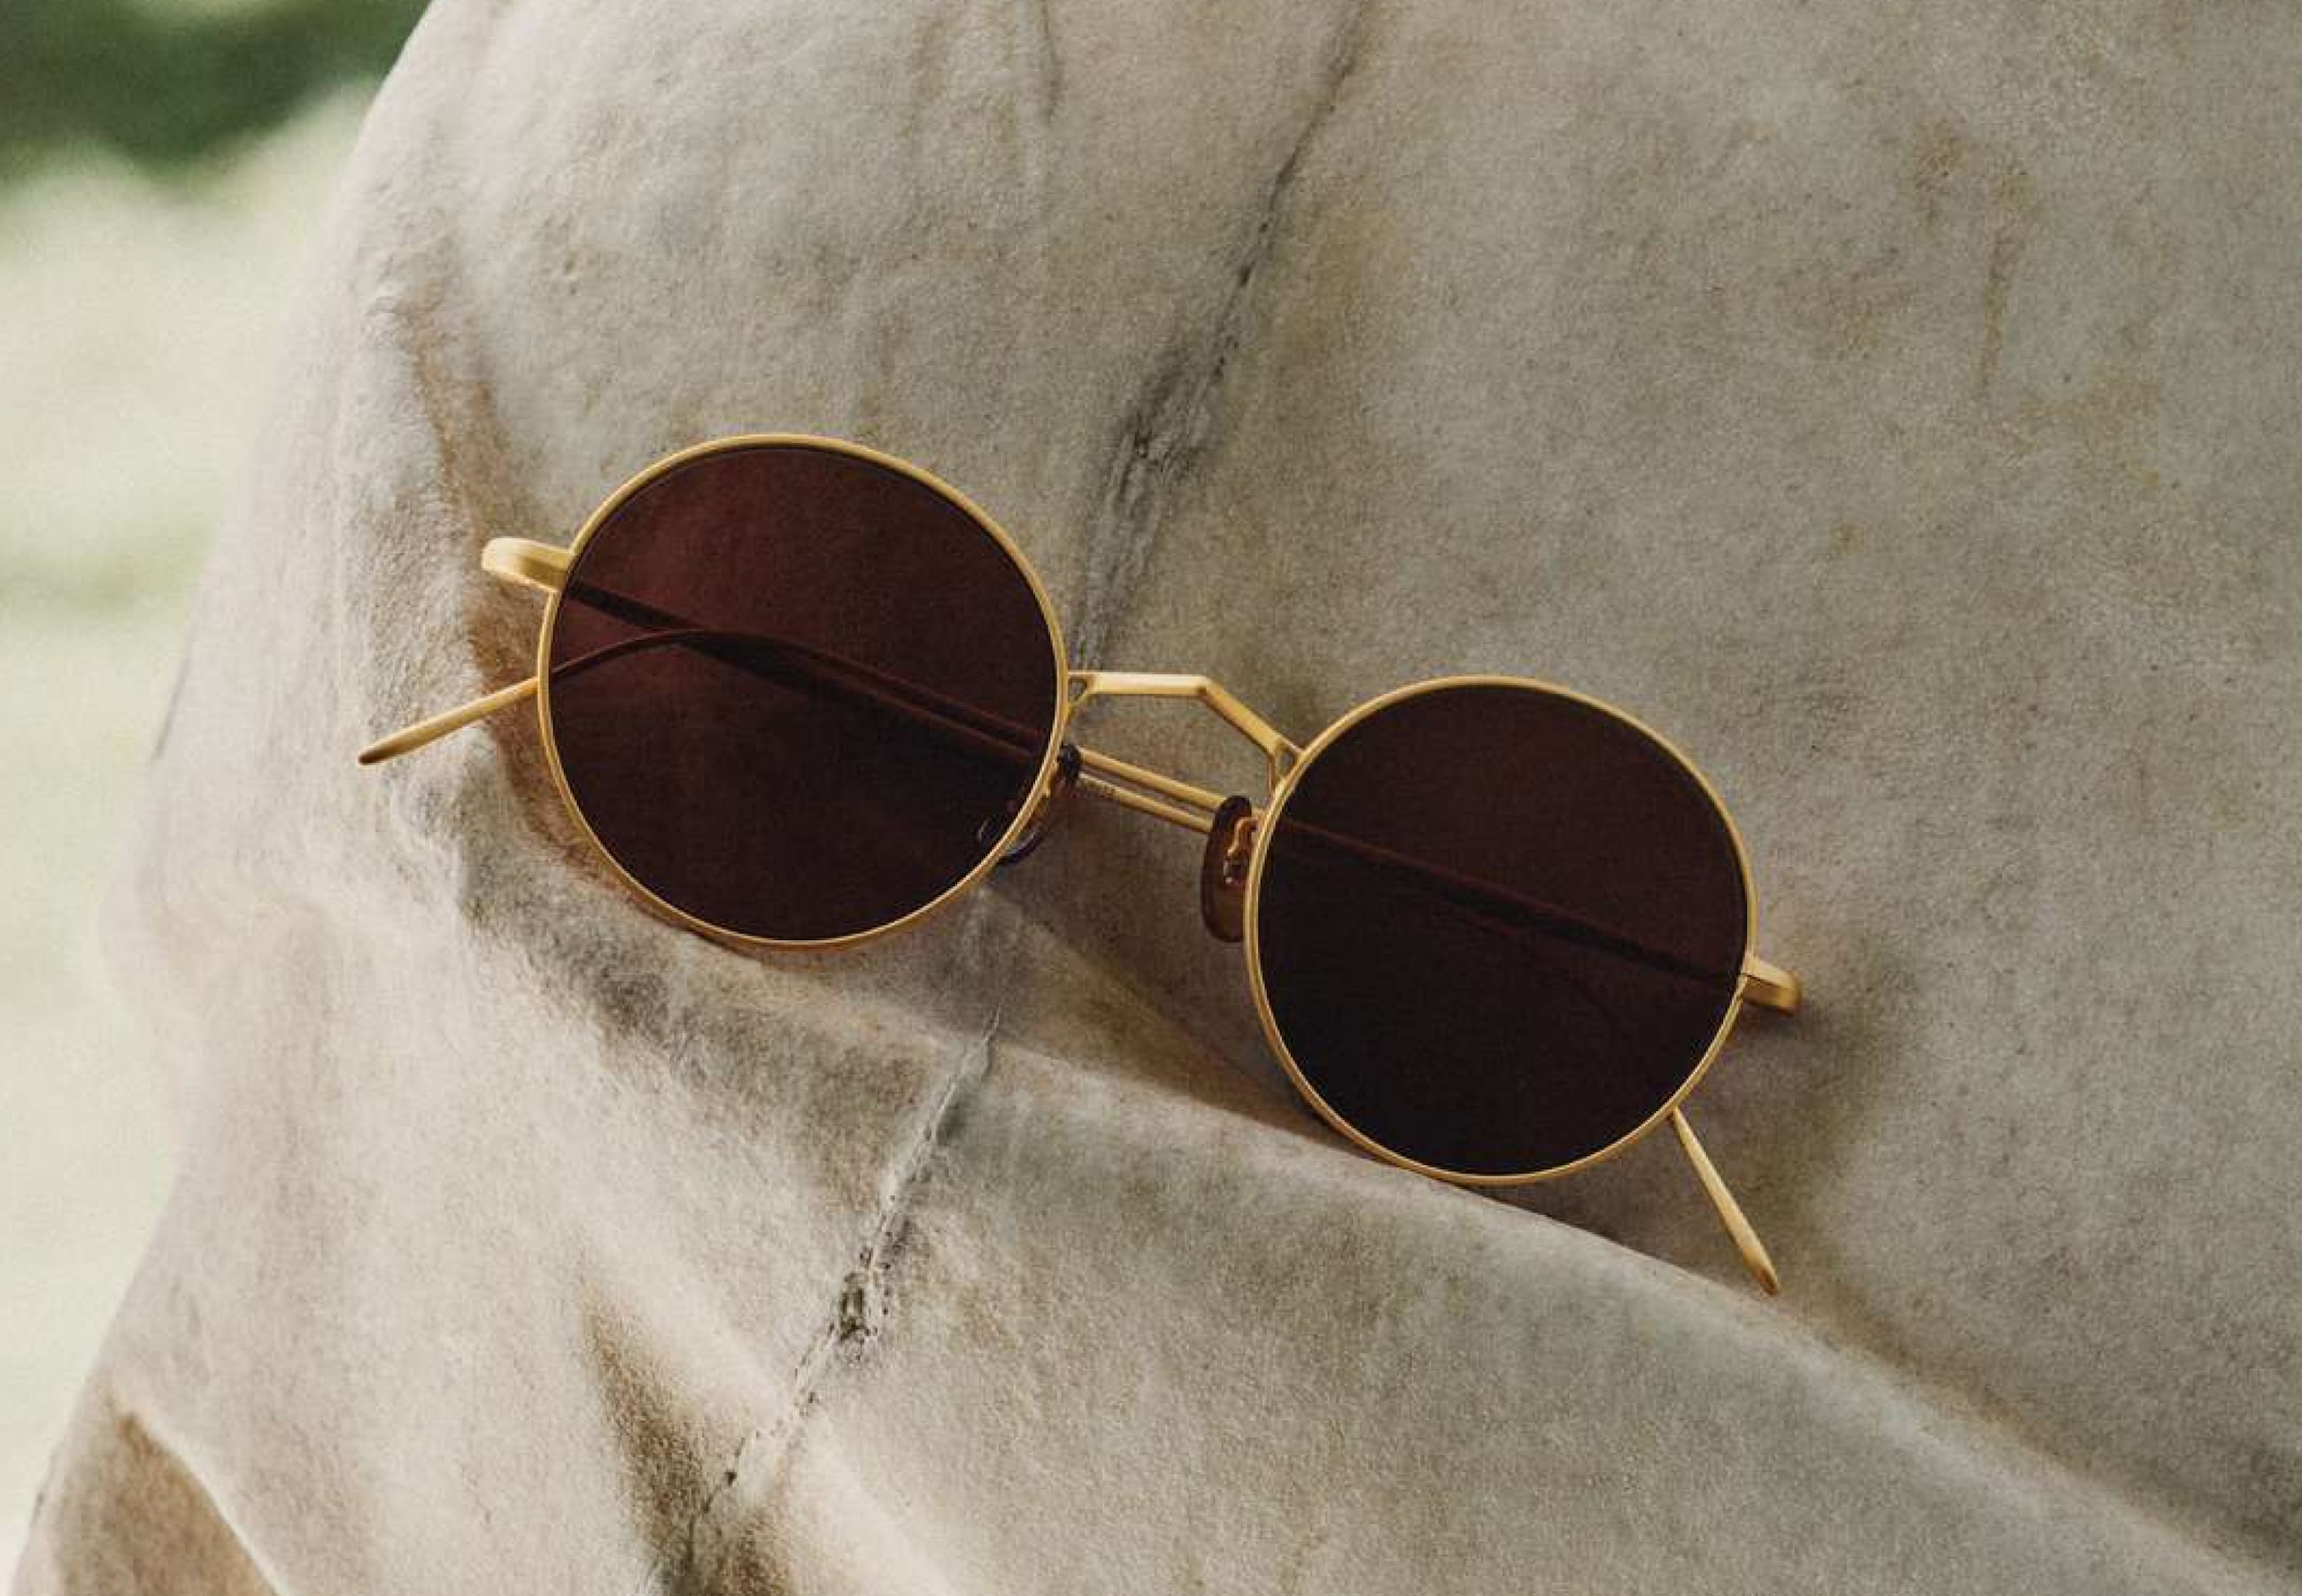lente: (346, 411, 1835, 1323)
